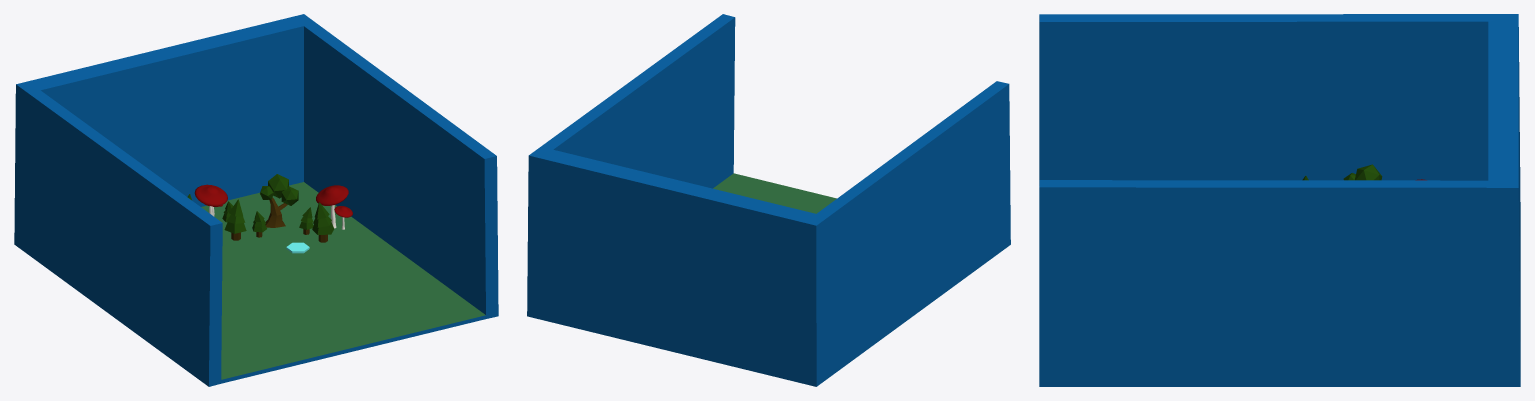
Rendered from World1_KillingFloor.fbx.
3 views of the same model, side by side, from view 1: azimuth 30°, elevation 25°; view 2: azimuth 150°, elevation 25°; view 3: azimuth 270°, elevation 25° (orthographic). The views are drawn at different scales.
Parts seen in each view (by area): view 1: pCube237, pCylinder606, pCylinder610; view 2: pCube237; view 3: pCube237.
Part boxes in pixels (<box>): pCube237: <box>14,14,498,386</box>; pCylinder606: <box>194,184,227,206</box>; pCylinder610: <box>316,185,348,205</box>; pCube237: <box>527,14,1010,386</box>; pCube237: <box>1039,14,1520,386</box>.
Size of the model in its own units: 505 by 268 by 587.
